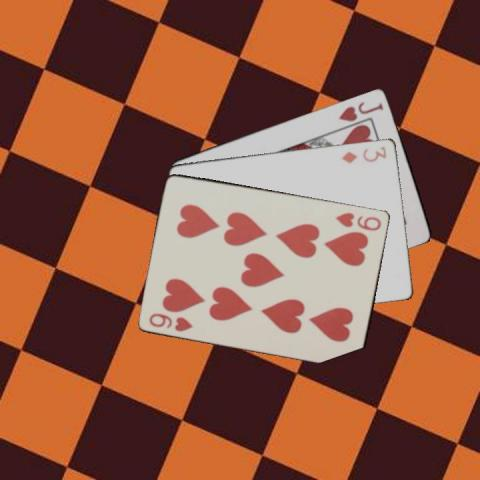3d: (339, 142, 388, 164)
9h: (332, 209, 383, 232), (146, 310, 195, 333)
Jh: (336, 98, 385, 123)
